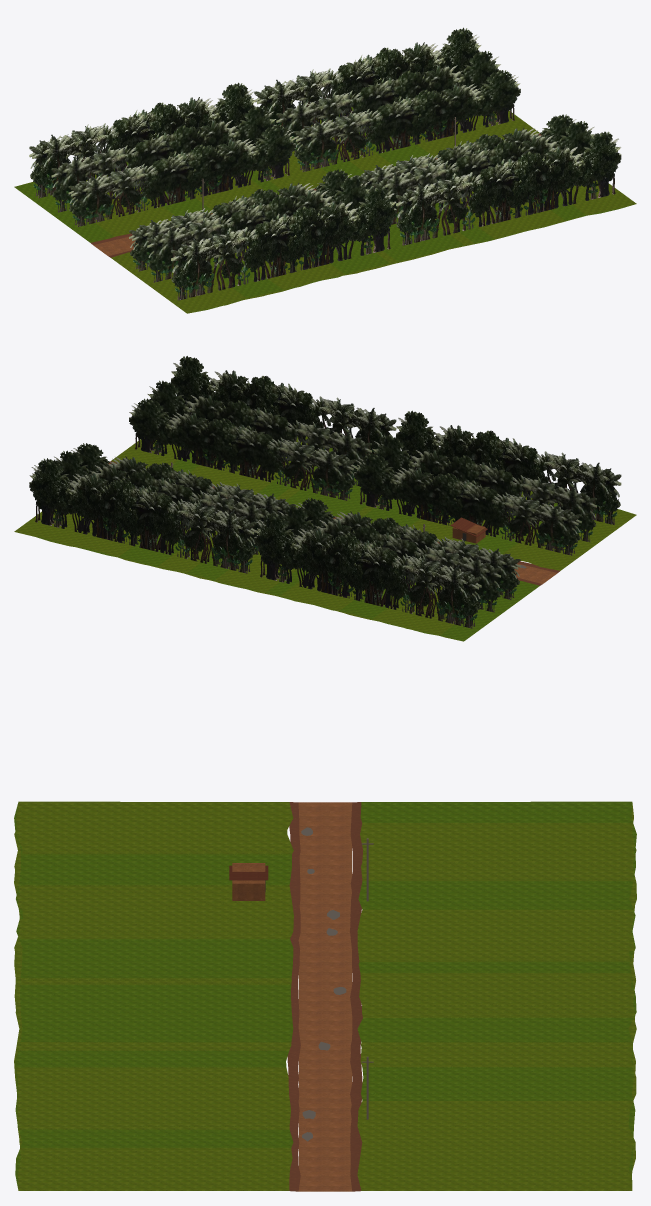
Rendered from road-kit.v1.glb.
The picture shows the model from 3 angles, top to bottom: view 1: azimuth 30°, elevation 25°; view 2: azimuth 150°, elevation 25°; view 3: azimuth 270°, elevation 25°; orthographic projection. The views are drawn at different scales.
Parts seen in each view (by area): view 1: bank, bank.002, bank.004; view 2: bank.004, bank.002, bank; view 3: bank, bank.004, bank.002.
Part boxes in pixels (bbox=[...]): bank: bbox=[32, 30, 626, 313]; bank.002: bbox=[14, 50, 636, 313]; bank.004: bbox=[18, 27, 631, 312]; bank.004: bbox=[18, 356, 632, 640]; bank.002: bbox=[26, 380, 635, 641]; bank: bbox=[14, 356, 636, 637]; bank: bbox=[14, 801, 636, 1191]; bank.004: bbox=[14, 801, 636, 1189]; bank.002: bbox=[14, 801, 636, 1191].
Bounding box in the file's own units: 120 × 19 × 81.18.
11 materials, 8 textured.
